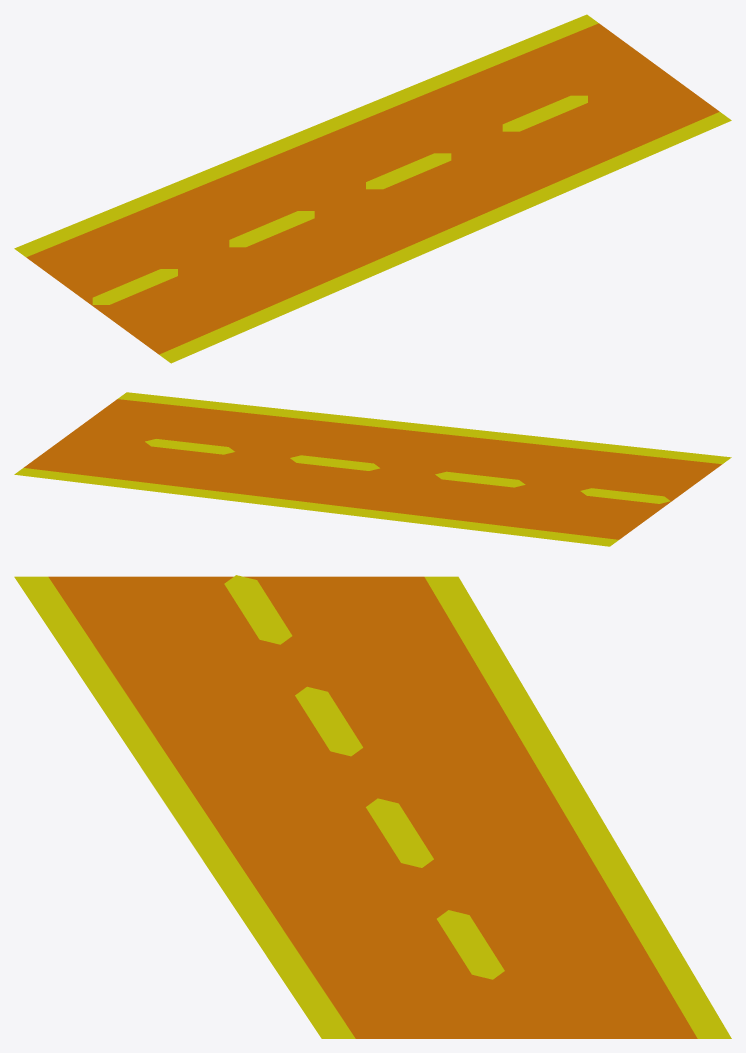
File: Mesh_road_angle.fbx
The picture shows the model from 3 angles, top to bottom: view 1: azimuth 30°, elevation 25°; view 2: azimuth 150°, elevation 25°; view 3: azimuth 270°, elevation 25°; orthographic projection. The views are drawn at different scales.
Parts seen in each view (by area): view 1: Mesh_road_angle; view 2: Mesh_road_angle; view 3: Mesh_road_angle.
Part boxes in pixels (x1,y1,x2,y2): Mesh_road_angle: [14, 14, 731, 363]; Mesh_road_angle: [14, 392, 731, 546]; Mesh_road_angle: [14, 575, 731, 1038].
Size of what is drawn, in the model's own units: 1600 by 2.5 by 1050.
